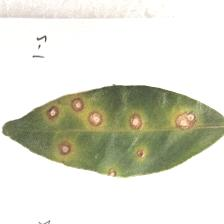canker: (43, 91, 196, 170)
